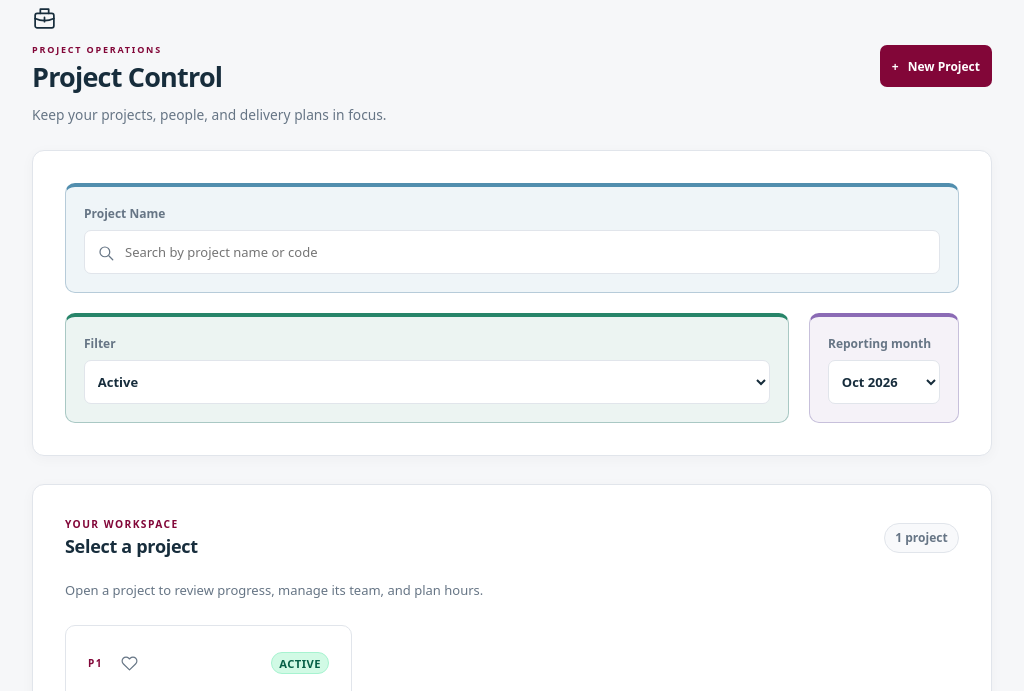
Scenario: starts new projects in the shared company without a second company selector
Step 1. Click the button "+ New Project" → click(936, 66), box [880,45,992,87]
(page scrolled)
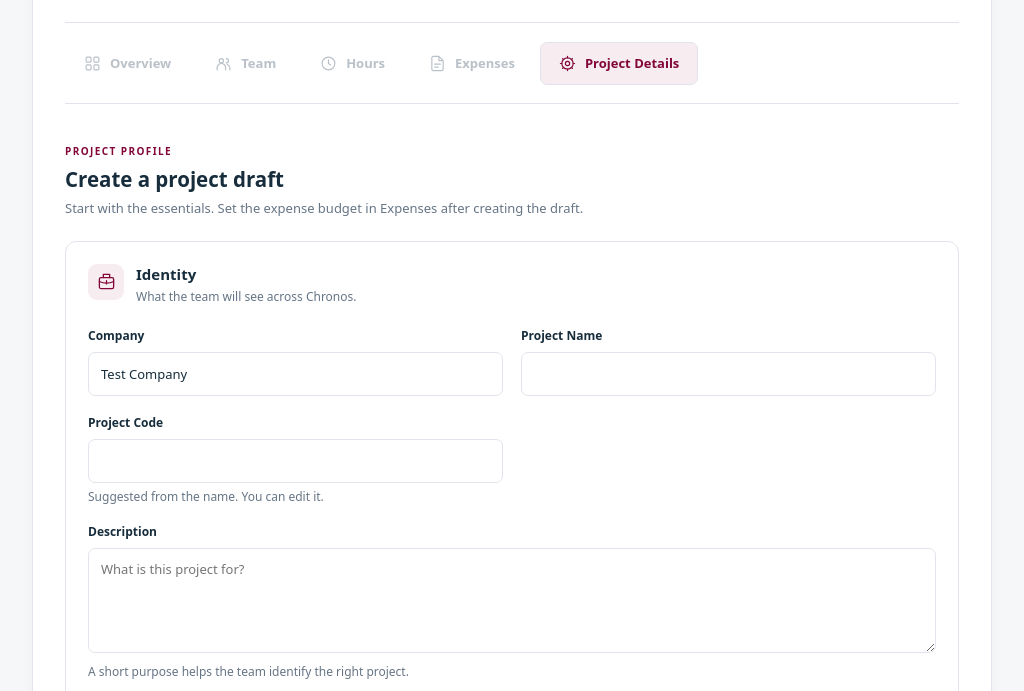
Expected: the field labelled "Company" holds "Test Company", [88,352,503,396]
